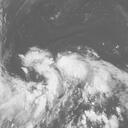cyclone: (30, 48, 104, 101)
